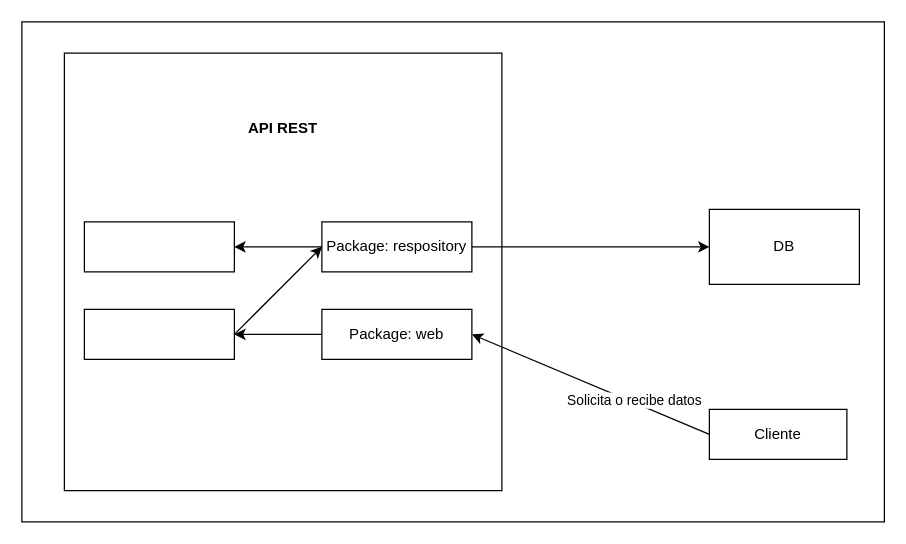
This 906x544 diagram has some shape labels left out. Here are the shapes that lost their labels. From the top down, the box of each, then its label:
(83, 221, 234, 272): Package: domain
(83, 308, 234, 359): Package: services
